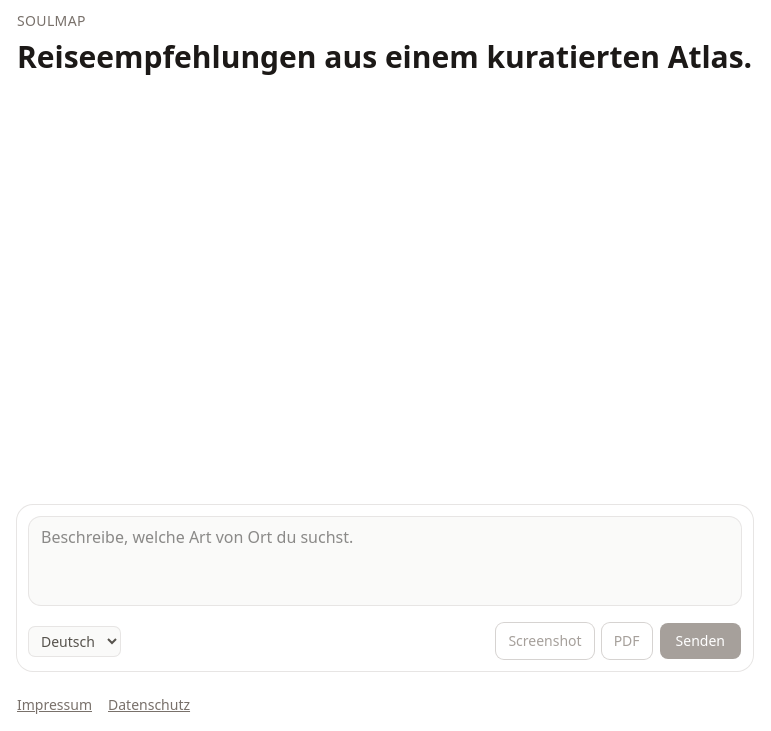
Scenario: ChatApp › sends a turn and shows the Art. 50 notice plus a fallback place
Check: the button "Screenshot" is disabled, box top-left (496, 623), bottom-right (594, 659)
Check: the button "PDF" is disabled, box top-left (602, 623), bottom-right (652, 659)
Type "Anden Inka" into the text box with placeholder "Beschreibe, welche Art von Ort du suchst." at (385, 561), box top-left (29, 517), bottom-right (741, 605)
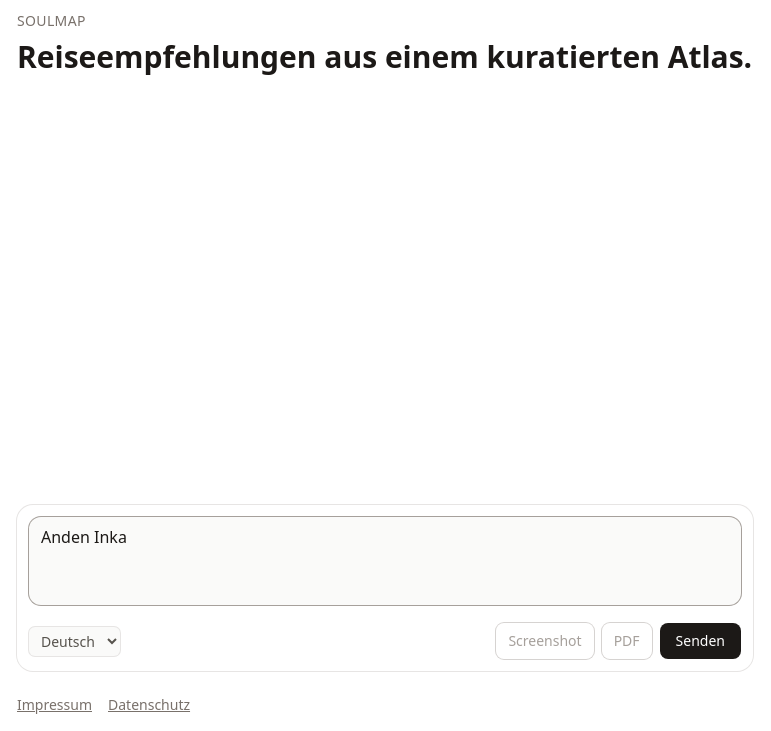
Click the button "Senden" at (700, 641), box top-left (660, 623), bottom-right (741, 659)
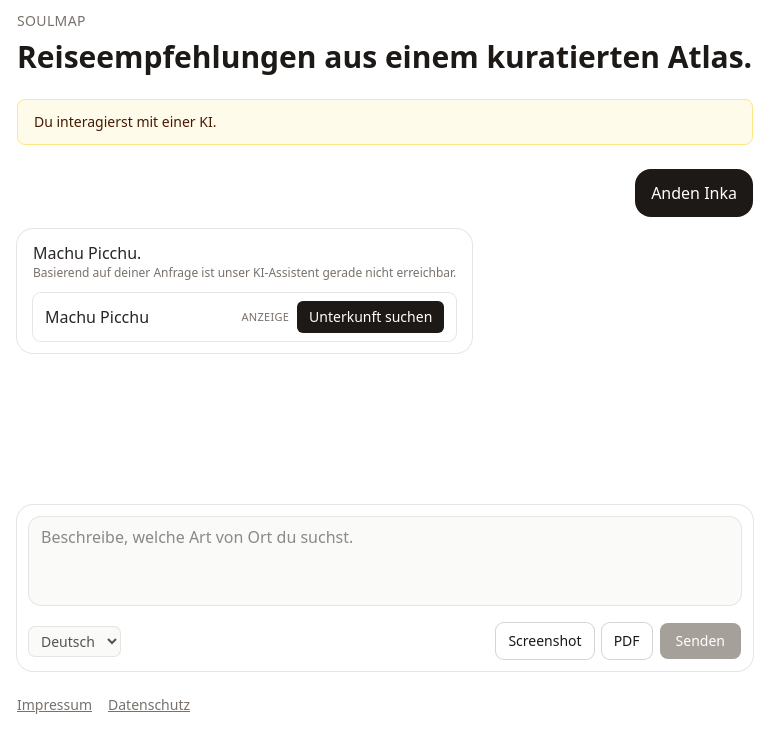
Check: the message reads "Du interagierst mit einer KI.", box top-left (34, 112), bottom-right (216, 131)
Check: the text "Machu Picchu." is shown, box top-left (33, 242), bottom-right (141, 264)
Check: the text "KI-Assistent gerade nicht erreichbar" is shown, box top-left (33, 264), bottom-right (456, 281)
